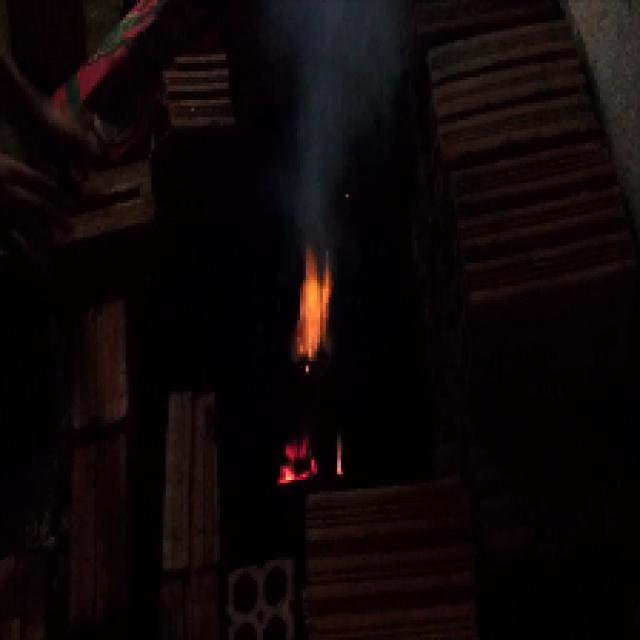fire: (291, 258, 341, 347)
smoke: (272, 2, 378, 225)
